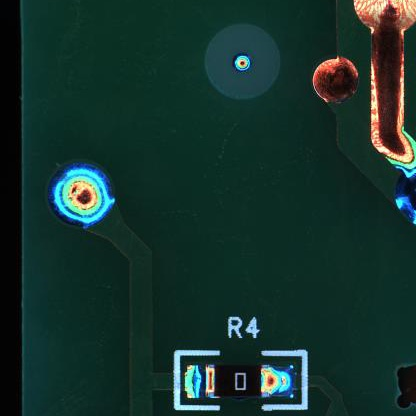spot: (49, 162, 116, 230)
